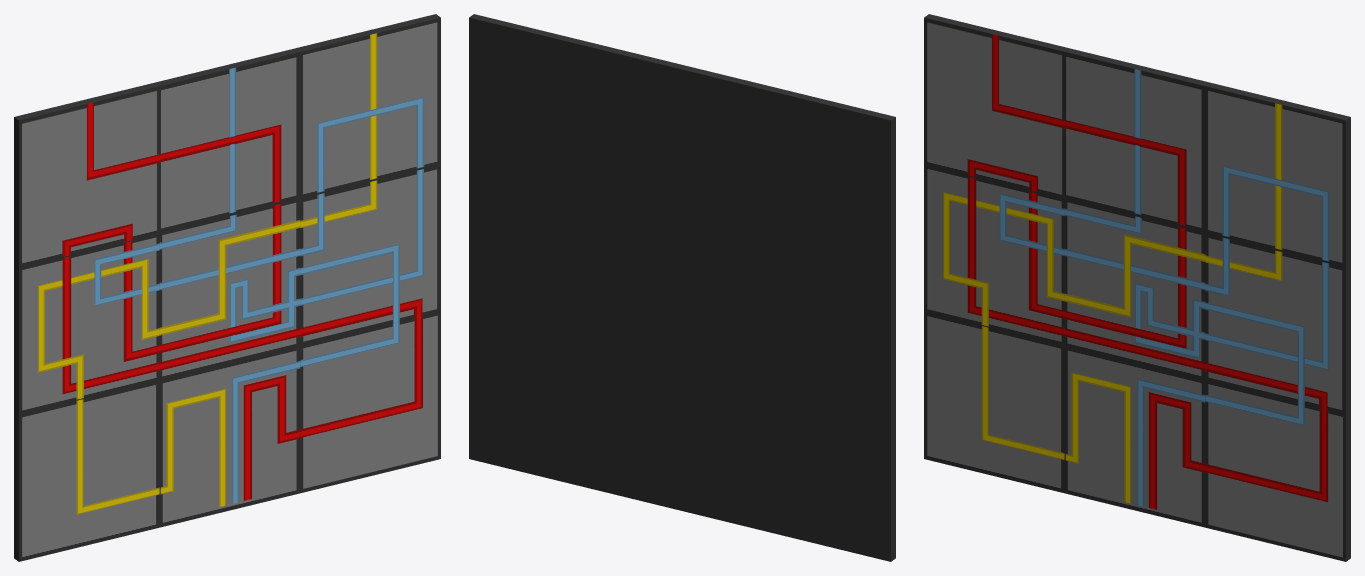
The model's file is Puzzle01.fbx.
3 views of the same model, side by side, from view 1: azimuth 30°, elevation 25°; view 2: azimuth 150°, elevation 25°; view 3: azimuth 330°, elevation 25° (orthographic).
Visible parts, largest first — view 1: Piece01, Piece02, Piece07, Piece04, Piece03, Piece09, Piece05, Piece06, Piece08; view 2: Piece01, Piece02, Piece07, Piece04, Piece03, Piece09, Piece05, Piece06, Piece08; view 3: Piece03, Piece02, Piece08, Piece06, Piece01, Piece09, Piece05, Piece04, Piece07.
Boxes of the visible parts, x1,y1,x2,y2 form: Piece01: [14, 82, 159, 267]; Piece02: [155, 48, 300, 232]; Piece07: [14, 380, 159, 561]; Piece04: [14, 233, 159, 414]; Piece03: [296, 14, 440, 198]; Piece09: [159, 346, 300, 527]; Piece05: [159, 199, 300, 380]; Piece06: [300, 164, 440, 345]; Piece08: [300, 312, 440, 493]; Piece01: [750, 82, 895, 267]; Piece02: [609, 48, 754, 232]; Piece07: [750, 380, 895, 561]; Piece04: [750, 233, 895, 414]; Piece03: [469, 14, 613, 198]; Piece09: [609, 346, 750, 527]; Piece05: [609, 199, 750, 380]; Piece06: [469, 164, 609, 345]; Piece08: [469, 312, 609, 493]; Piece03: [1205, 82, 1350, 267]; Piece02: [1064, 48, 1209, 232]; Piece08: [1205, 380, 1350, 561]; Piece06: [1205, 233, 1350, 414]; Piece01: [924, 14, 1068, 198]; Piece09: [1064, 346, 1205, 527]; Piece05: [1064, 199, 1205, 380]; Piece04: [924, 164, 1064, 345]; Piece07: [924, 312, 1064, 493].
Size of the model in its own units: 3 by 3 by 0.0601.
